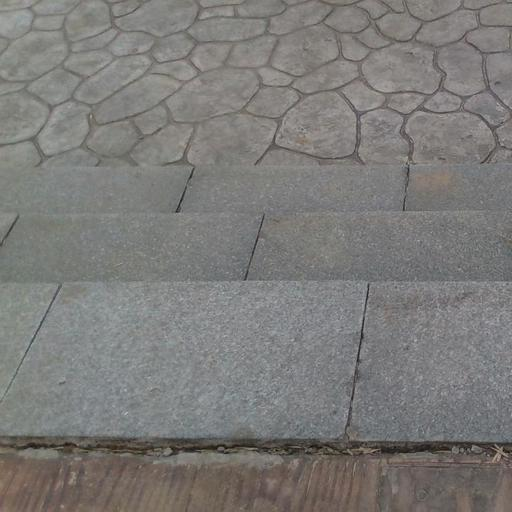stairs: (0, 165, 511, 443)
